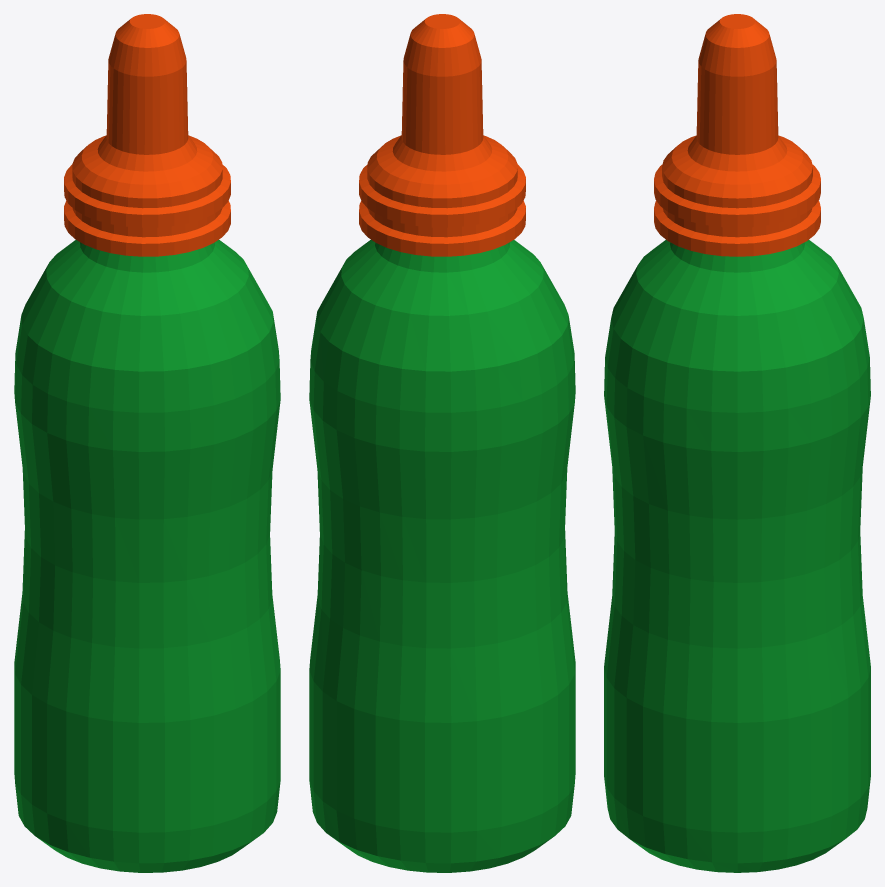
The model's file is bottle.obj.
The picture shows the model from 3 angles, left to right: view 1: azimuth 30°, elevation 25°; view 2: azimuth 150°, elevation 25°; view 3: azimuth 270°, elevation 25°; orthographic projection.
Visible parts, largest first — view 1: Body, Cap, Nozzle; view 2: Body, Cap, Nozzle; view 3: Body, Cap, Nozzle.
Part boxes in pixels (<box>): Body: <box>14,240,280,872</box>; Cap: <box>64,135,230,256</box>; Nozzle: <box>97,14,197,171</box>; Body: <box>309,240,575,872</box>; Cap: <box>359,135,525,256</box>; Nozzle: <box>392,14,492,171</box>; Body: <box>604,240,870,872</box>; Cap: <box>654,135,820,256</box>; Nozzle: <box>687,14,787,171</box>.
Bounding box in the file's own units: 0.075 × 0.25 × 0.075.
